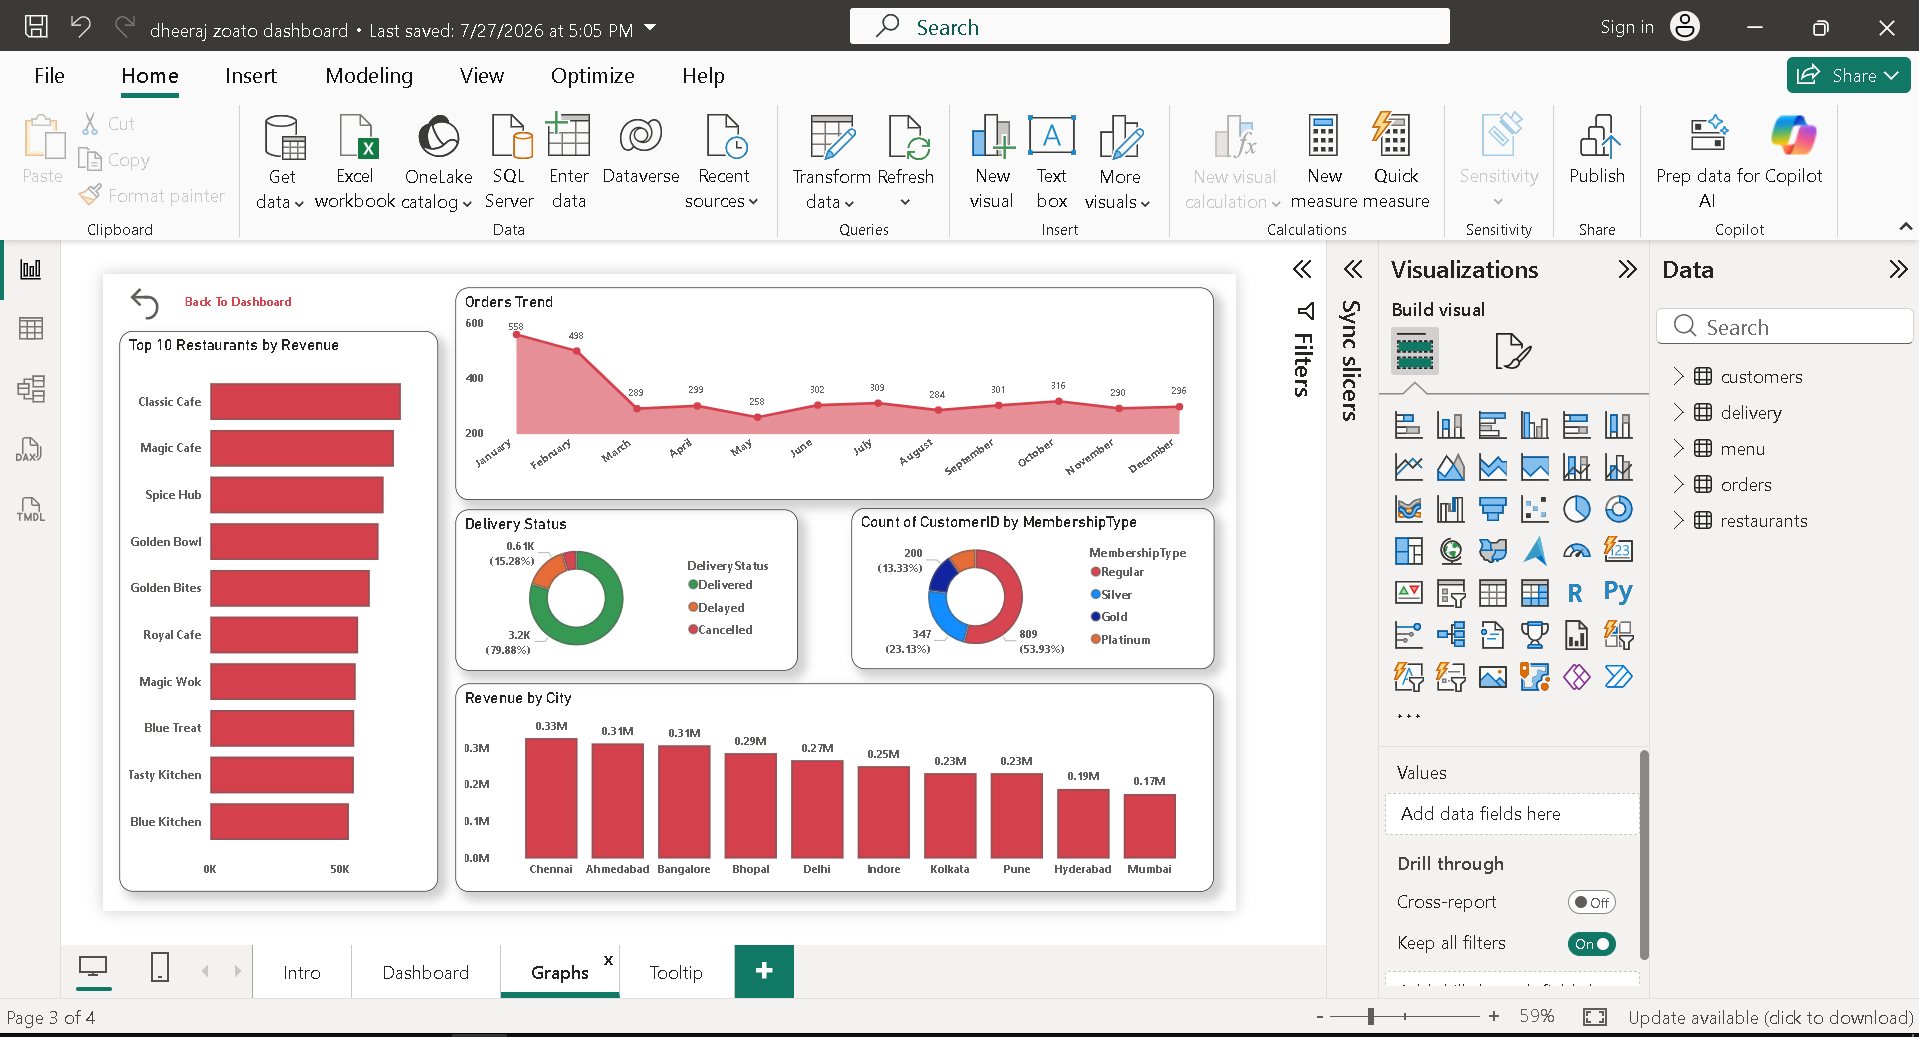

The page's visual inventory and layout, read from the dashboard file:
{"tool":"powerbi","page":{"name":"Graphs","canvas":[1280,720],"ordinal":2},"visuals":[{"type":"barChart","title":"Top 10 Restaurants by Revenue","fields":{"Category":["restaurants.RestaurantName"],"Y":["Sum(orders.TotalAmount)"]},"box":[18.3,65,360,633.3],"z":0},{"type":"donutChart","title":"Delivery Status","fields":{"Category":["delivery.DeliveryStatus"],"Y":["CountNonNull(delivery.DeliveryID)"]},"box":[398.3,266.7,386.7,181.7],"z":1000},{"type":"lineChart","title":"Orders Trend","fields":{"Category":["orders.OrderDate.Variation.Date Hierarchy.Month"],"Y":["CountNonNull(orders.OrderID)"]},"box":[398.3,15,856.7,240],"z":2000},{"type":"clusteredColumnChart","title":"Revenue by City","fields":{"Category":["restaurants.City"],"Y":["Sum(orders.TotalAmount)"]},"box":[398.3,463.3,856.7,235],"z":3000},{"type":"donutChart","fields":{"Category":["customers.MembershipType"],"Y":["CountNonNull(customers.CustomerID)"]},"box":[845,265,410,181.7],"z":4000},{"type":"actionButton","box":[23.8,9.4,63.8,46.9],"z":5000},{"type":"textbox","box":[88.6,15.7,138.6,35.7],"z":6000}]}

Visuals, with their boxes on the page's 1280x720 design canvas (x1, y1, x2, y2). These are canvas units, not pixel positions in the 1919x1037 screenshot, which may show the page scaled, cropped or inside an application window:
"Top 10 Restaurants by Revenue" barChart: box=[18, 65, 378, 698]
"Delivery Status" donutChart: box=[398, 267, 785, 448]
"Orders Trend" lineChart: box=[398, 15, 1255, 255]
"Revenue by City" clusteredColumnChart: box=[398, 463, 1255, 698]
donutChart - customers.MembershipType x CountNonNull(customers.CustomerID): box=[845, 265, 1255, 447]
actionButton: box=[24, 9, 88, 56]
textbox: box=[89, 16, 227, 51]
